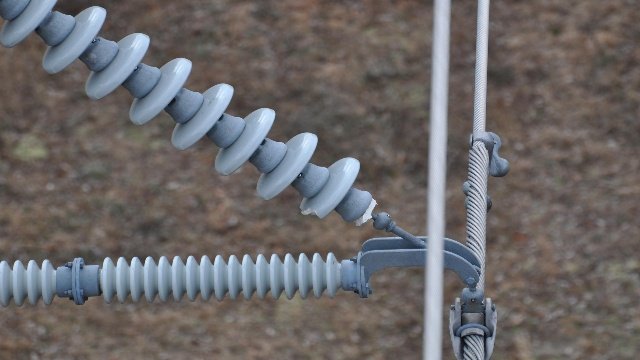broken_local: (295, 199, 328, 222), (356, 195, 377, 228)
insulator_unspecified: (0, 0, 378, 226), (0, 251, 338, 308)
